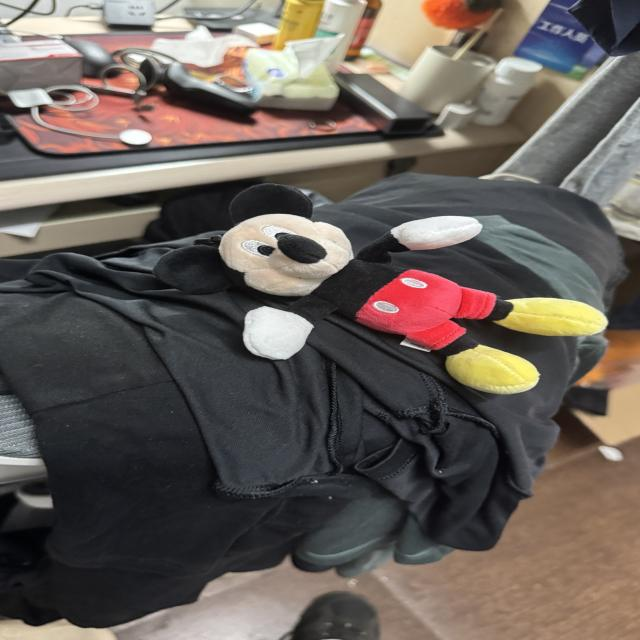mickey: (155, 185, 606, 394)
tissue: (245, 36, 342, 110), (152, 26, 258, 68)
